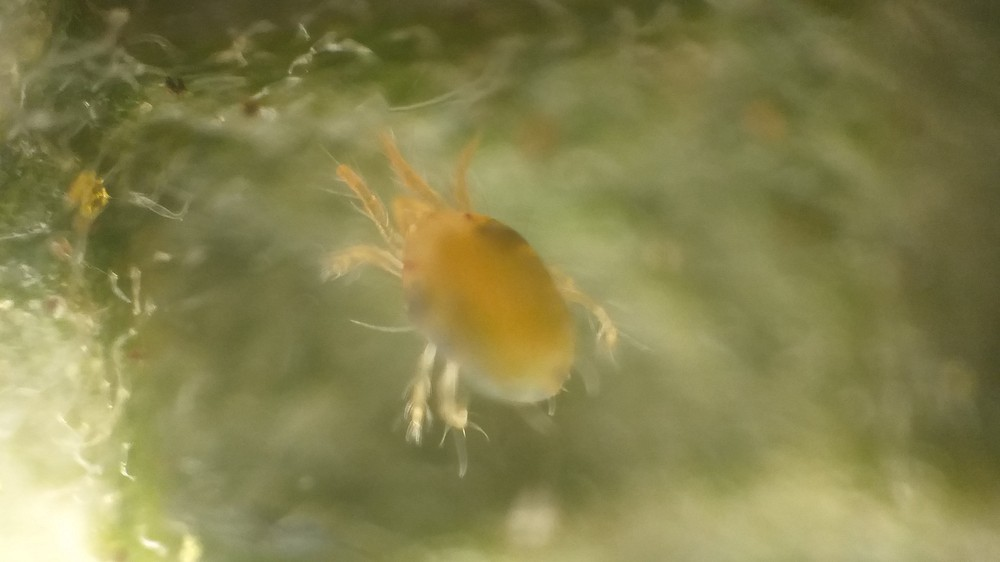Aracnido Rojo: (285, 117, 682, 500)
